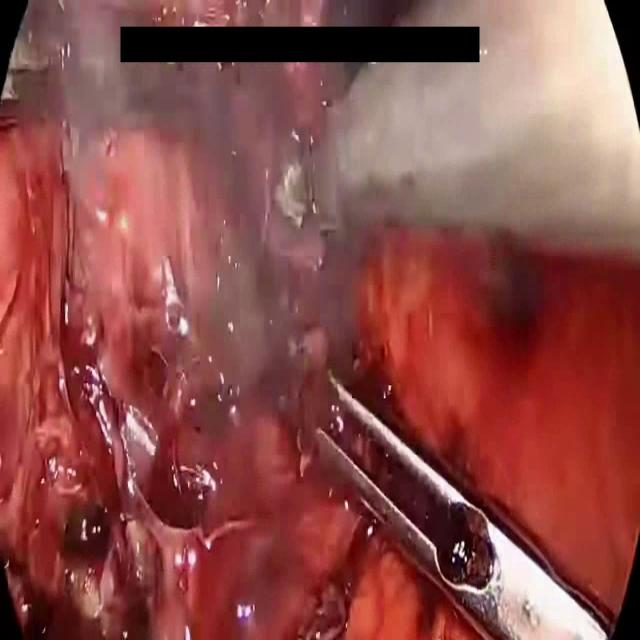surgical-area: (0, 0, 640, 639)
surgical-tool: (299, 367, 612, 639)
